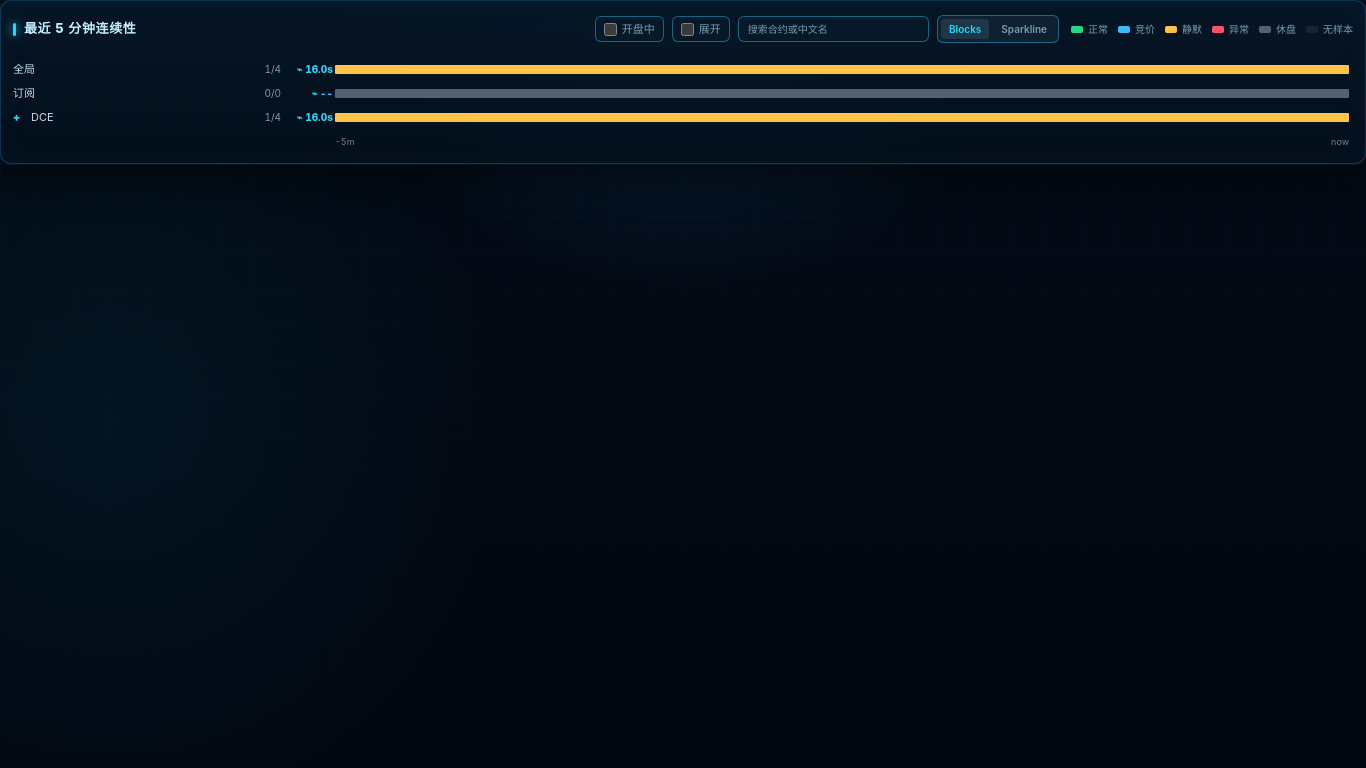
it: ContinuityTimeline › keeps expanded exchange symbols in stable contract-name order by product
The width and height of the screenshot is (1366, 768).
Click the button "+ DCE 1/4 ⌁ 16.0s": coordinates (315, 116) [13,109,333,125]
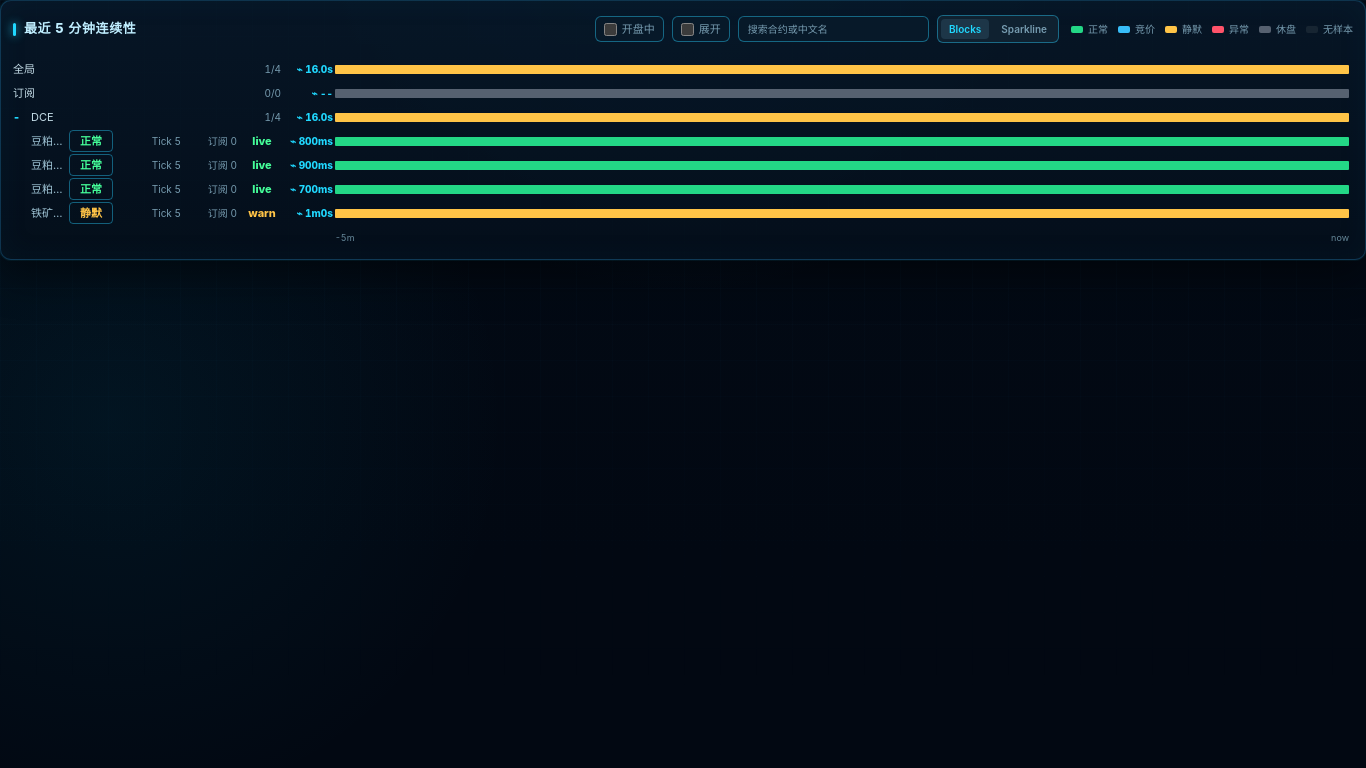
expect the element with test id "timeline-symbol-row" shows "豆粕2609": met, box [31,134,82,148]
expect the element with test id "timeline-symbol-row" shows "豆粕加权": met, box [31,158,75,172]
expect the element with test id "timeline-symbol-row" shows "豆粕主连": met, box [31,182,75,196]
